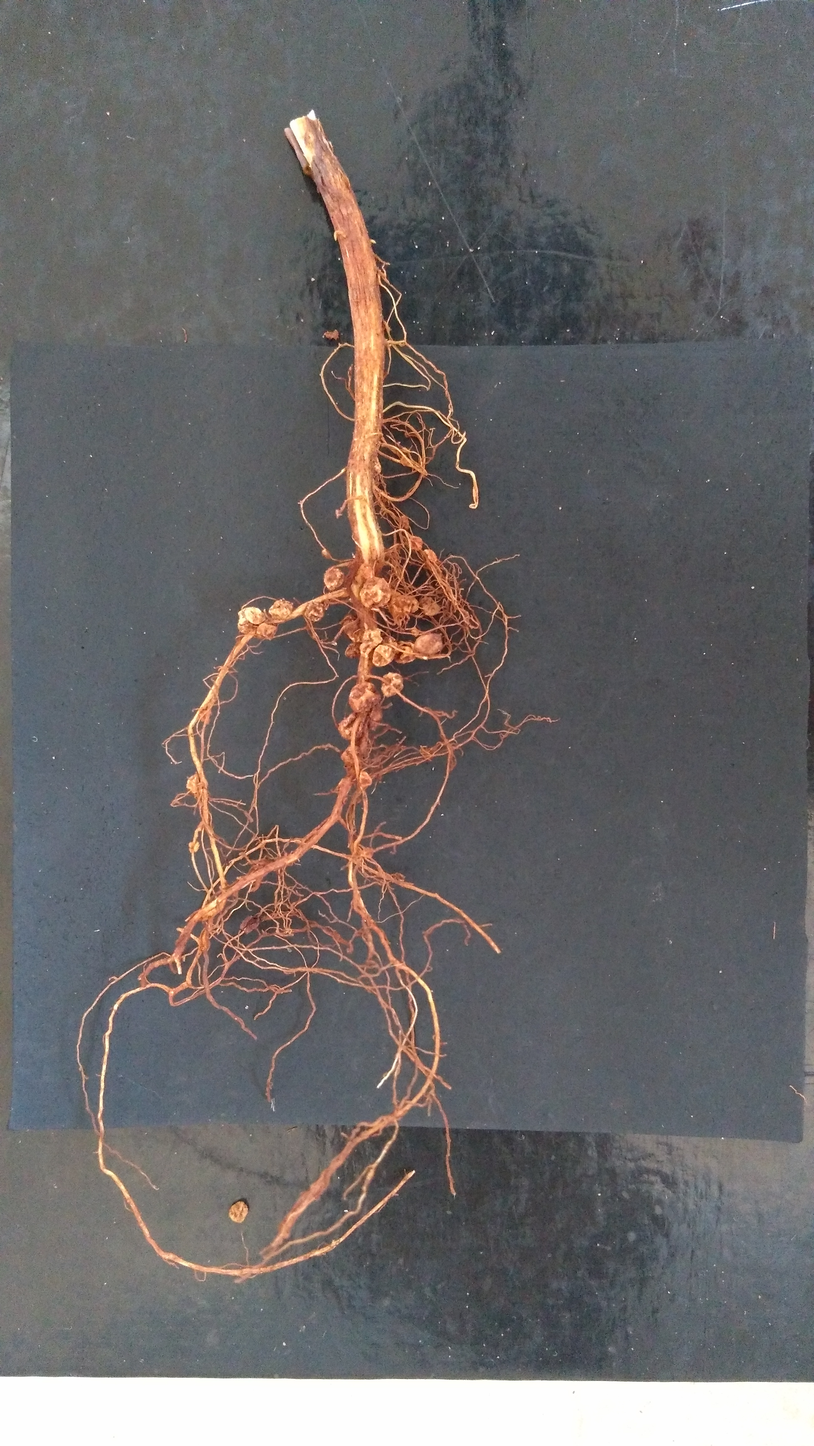nodule: (348, 682, 381, 713), (360, 577, 391, 607), (351, 564, 373, 598), (388, 589, 419, 613), (238, 607, 265, 633), (414, 633, 442, 658), (338, 714, 364, 740), (360, 628, 382, 657), (202, 898, 226, 923), (340, 613, 361, 641), (381, 673, 404, 697), (269, 598, 293, 620), (372, 645, 395, 666), (395, 640, 415, 663), (341, 745, 362, 766), (324, 567, 344, 589), (303, 602, 325, 622), (229, 1201, 248, 1222), (420, 597, 441, 615), (256, 623, 277, 640), (369, 705, 383, 730), (240, 916, 259, 934), (360, 723, 369, 756), (345, 642, 362, 659), (186, 774, 199, 794), (359, 770, 372, 789), (408, 536, 423, 551), (382, 636, 397, 651), (422, 549, 437, 562), (338, 777, 351, 792), (373, 456, 381, 477), (198, 708, 212, 720), (390, 872, 405, 883), (360, 847, 373, 858), (400, 515, 409, 530), (188, 841, 199, 853), (321, 549, 331, 558), (412, 626, 418, 637), (398, 339, 406, 347), (197, 782, 205, 788)
